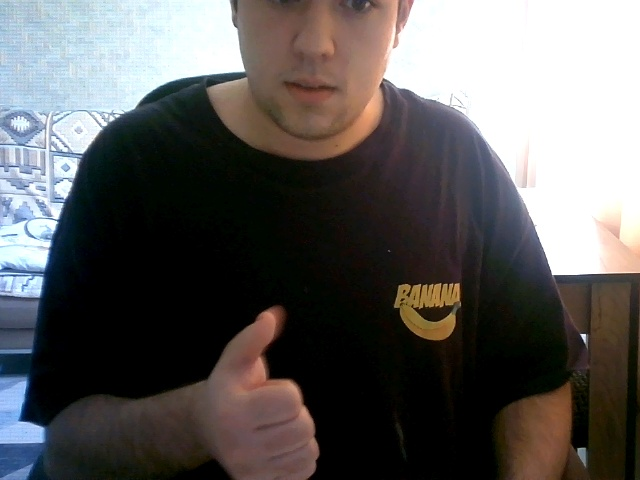good: (204, 290, 316, 478)
